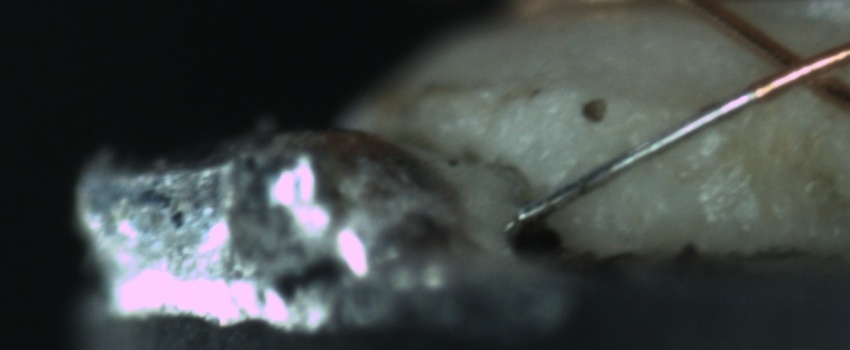CL: (750, 34, 846, 103)
TS: (516, 89, 754, 224)
